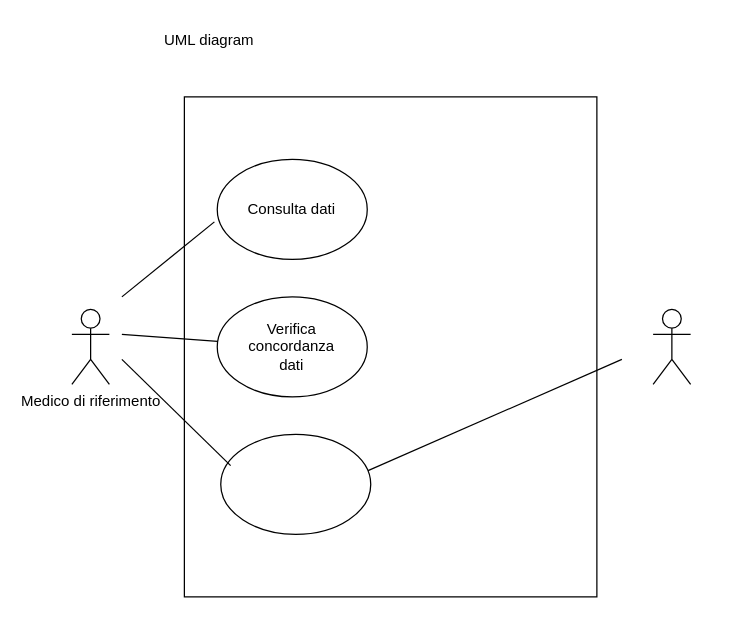
This 734x619 diagram has some shape labels left out. Here are the shapes that lost their labels. From the top down, the box of each, then its label:
(652, 308, 691, 384): SW cartella specialistica
(220, 433, 371, 534): Apertura cartella specialistica
